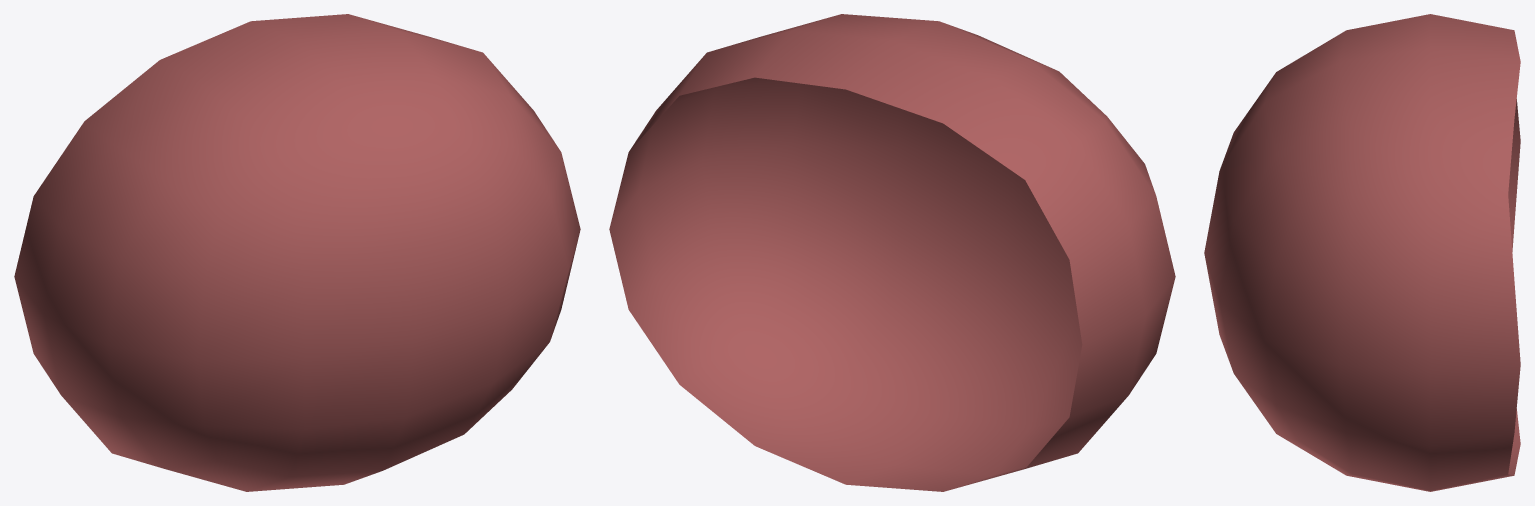
File: Nose02.fbx
3 views of the same model, side by side, from view 1: azimuth 30°, elevation 25°; view 2: azimuth 150°, elevation 25°; view 3: azimuth 270°, elevation 25° (orthographic). The views are drawn at different scales.
Parts seen in each view (by area): view 1: Nose3; view 2: Nose3; view 3: Nose3.
Boxes of the visible parts, bbox=[...] form: Nose3: bbox=[14, 14, 580, 491]; Nose3: bbox=[609, 14, 1175, 491]; Nose3: bbox=[1204, 14, 1520, 491].
Bounding box in the file's own units: 2.03 × 1.62 × 1.13.
